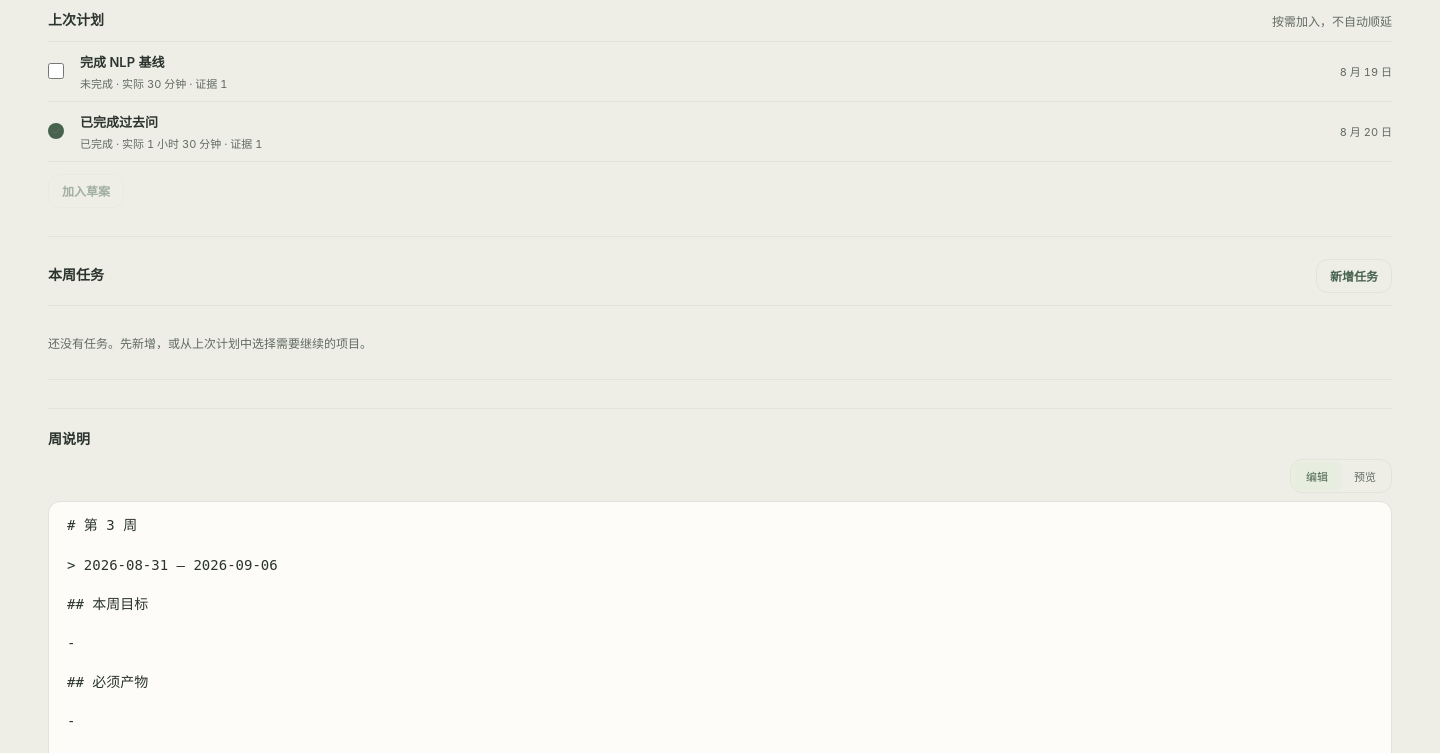
WeekWorkspace › derives separate study and fitness plan totals from the current cards
(page scrolled)
Click the button "新增任务".
click(1354, 276)  # box [1316,259,1392,293]
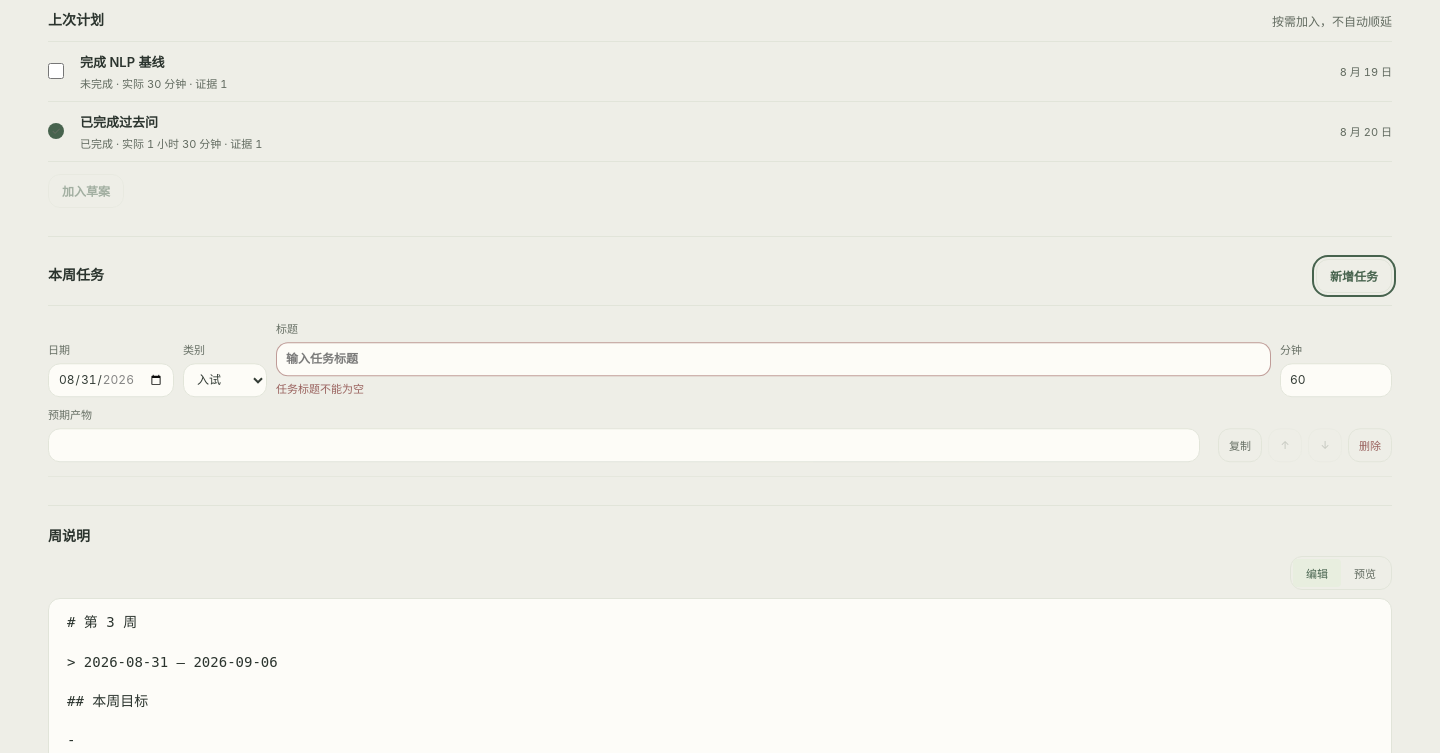
Select "健身" in the dropdown named "任务类别" at (225, 380), box [183,363,267,397]
(page scrolled)
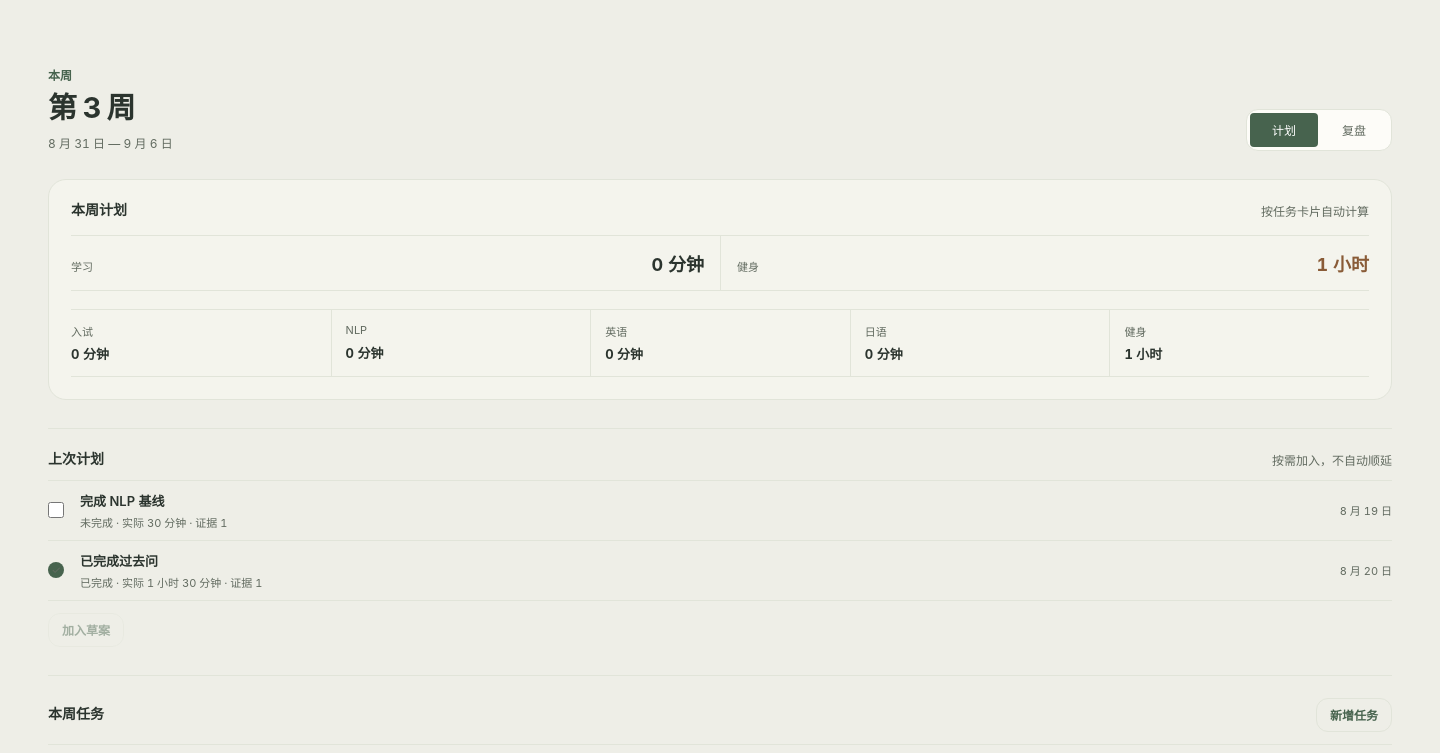
Expected: the element named "学习计划总时长" shows "0 分钟", [652,254,704,275]
Expected: the element named "健身计划总时长" shows "1 小时", [1316,254,1369,275]
